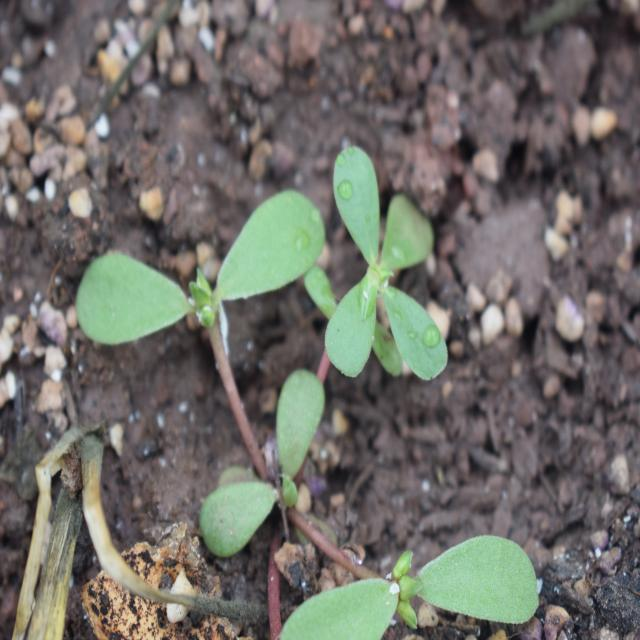purslane: (100, 185, 554, 636)
